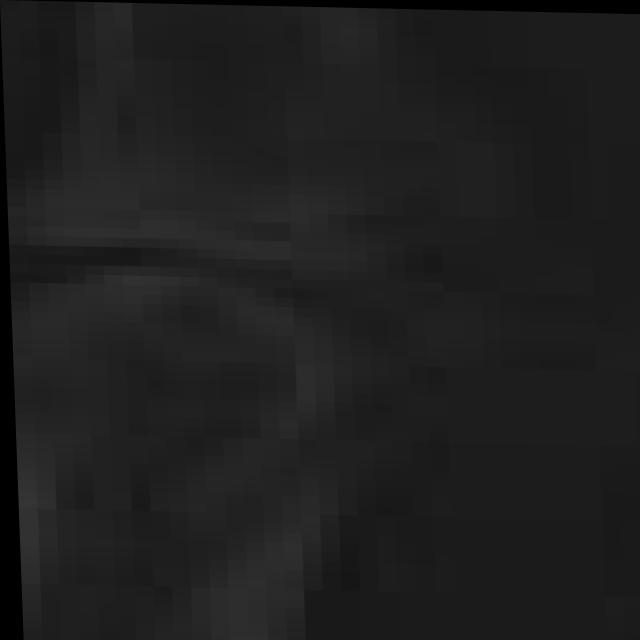fracture: (17, 3, 640, 640)
